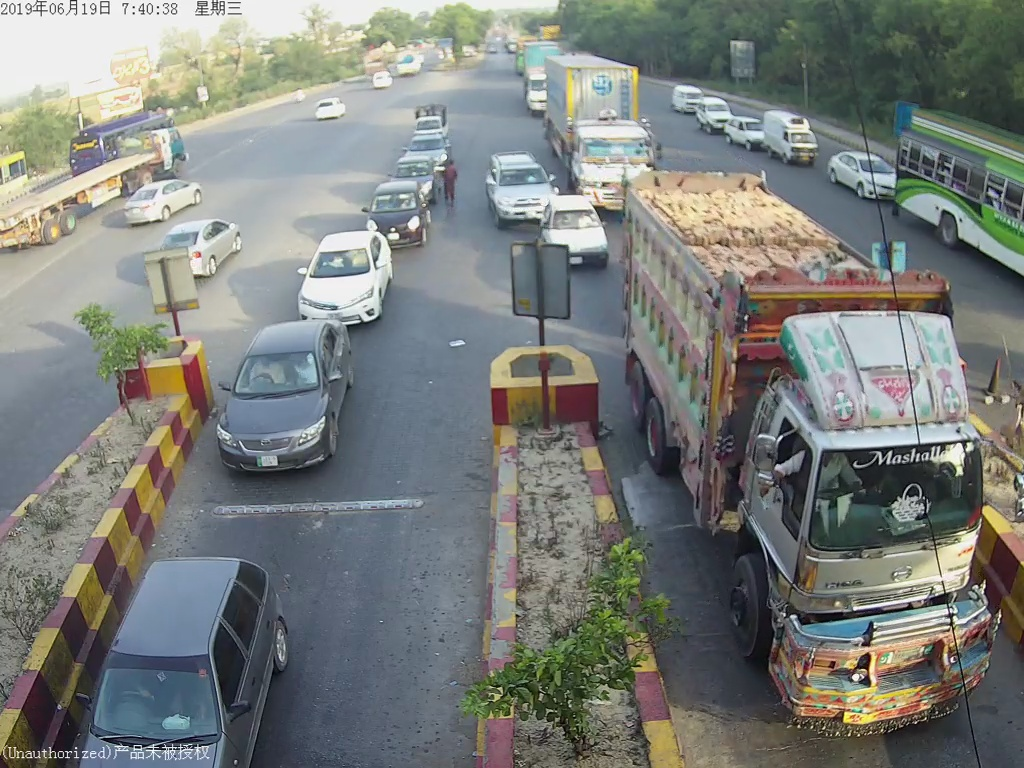Cat-1: (216, 320, 358, 474), (304, 234, 387, 320), (355, 183, 431, 234), (485, 156, 538, 225), (538, 198, 604, 251)
Cat-4: (648, 278, 980, 729)
Cat-5: (558, 70, 651, 166)
